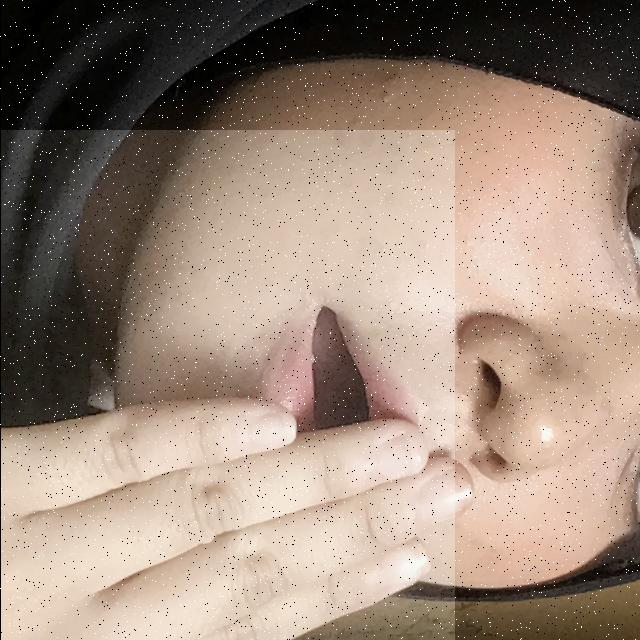ngantuk: (0, 130, 454, 640)
